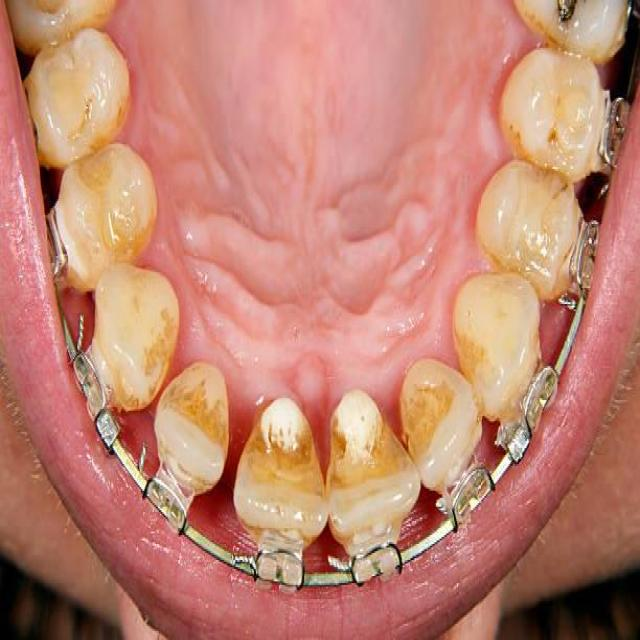caries: (250, 387, 317, 489), (326, 379, 394, 478), (532, 0, 587, 46)
